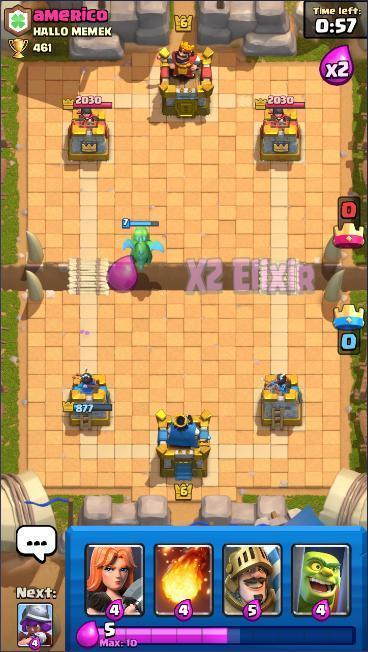ally_baby_dragon: (119, 215, 167, 272)
